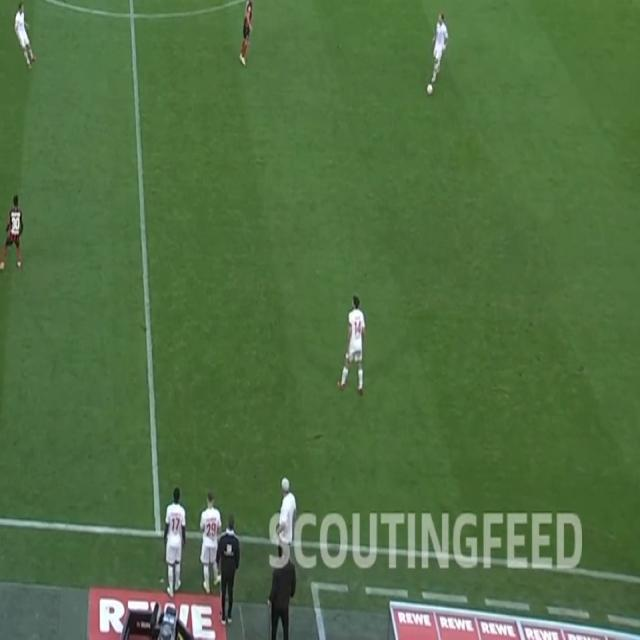ball: (426, 83, 434, 95)
